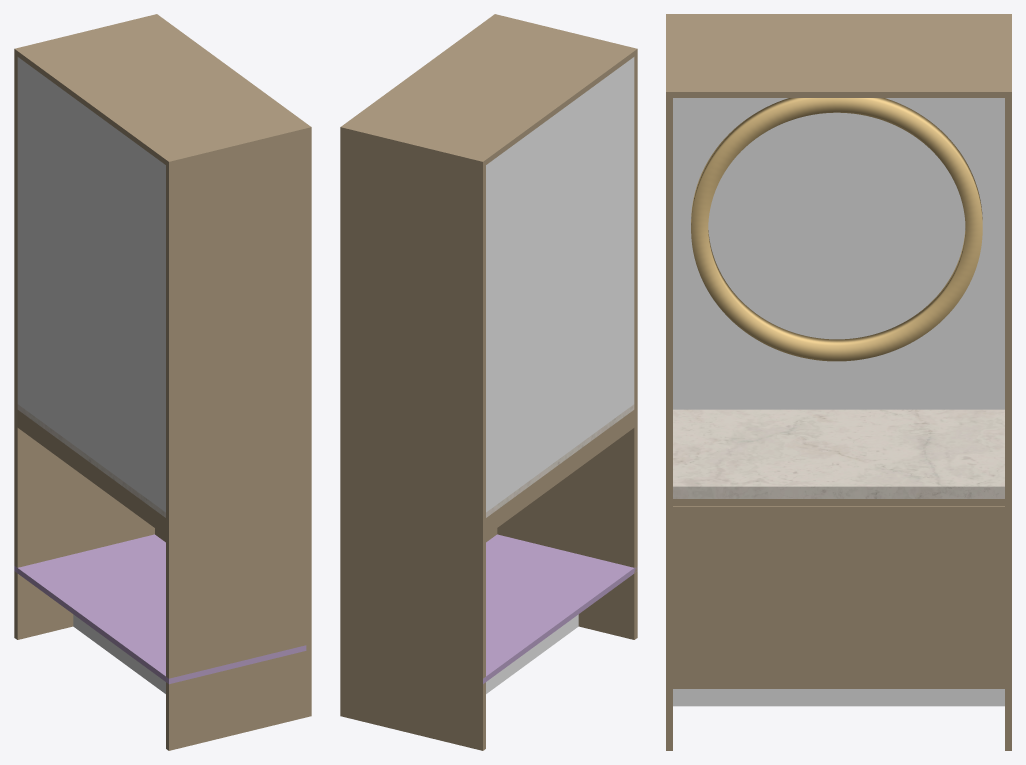
Rendered from furniture.glb.
The picture shows the model from 3 angles, left to right: view 1: azimuth 30°, elevation 25°; view 2: azimuth 150°, elevation 25°; view 3: azimuth 270°, elevation 25°; orthographic projection. The views are drawn at different scales.
Visible parts, largest first — view 1: FURNITURE006, FURNITURE008, FURNITURE009, FURNITURE003, FURNITURE004, FURNITURE010; view 2: FURNITURE006, FURNITURE008, FURNITURE009, FURNITURE003, FURNITURE004, FURNITURE010; view 3: FURNITURE008, FURNITURE006, FURNITURE010, FURNITURE012, FURNITURE011, FURNITURE007, FURNITURE005, FURNITURE004, FURNITURE003.
Boxes of the visible parts, left/top/right/bottom form: FURNITURE006: left=14, top=14, right=311, bottom=750; FURNITURE008: left=17, top=57, right=165, bottom=512; FURNITURE009: left=14, top=534, right=306, bottom=684; FURNITURE003: left=17, top=410, right=165, bottom=535; FURNITURE004: left=73, top=614, right=165, bottom=693; FURNITURE010: left=17, top=404, right=165, bottom=517; FURNITURE006: left=340, top=14, right=637, bottom=750; FURNITURE008: left=486, top=57, right=634, bottom=512; FURNITURE009: left=483, top=534, right=637, bottom=683; FURNITURE003: left=486, top=410, right=634, bottom=535; FURNITURE004: left=486, top=614, right=578, bottom=693; FURNITURE010: left=486, top=404, right=634, bottom=517; FURNITURE008: left=673, top=98, right=1004, bottom=409; FURNITURE006: left=666, top=14, right=1011, bottom=750; FURNITURE010: left=673, top=409, right=1004, bottom=498; FURNITURE012: left=780, top=506, right=896, bottom=688; FURNITURE011: left=896, top=506, right=1004, bottom=688; FURNITURE007: left=673, top=506, right=780, bottom=688; FURNITURE005: left=691, top=98, right=982, bottom=361; FURNITURE004: left=673, top=689, right=1004, bottom=706; FURNITURE003: left=673, top=499, right=1004, bottom=506.
Size of the model in its own units: 0.537 by 2.12 by 1.01.
Materials: 5 (1 with a texture image).
